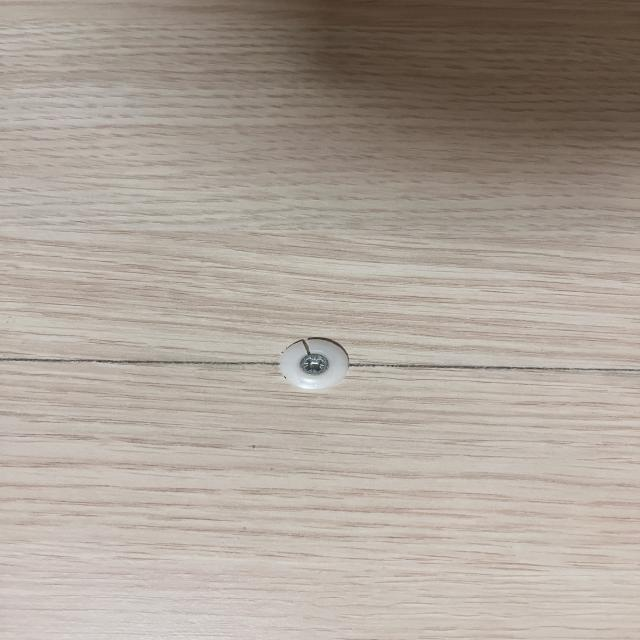pozidriv: (299, 354, 329, 376)
